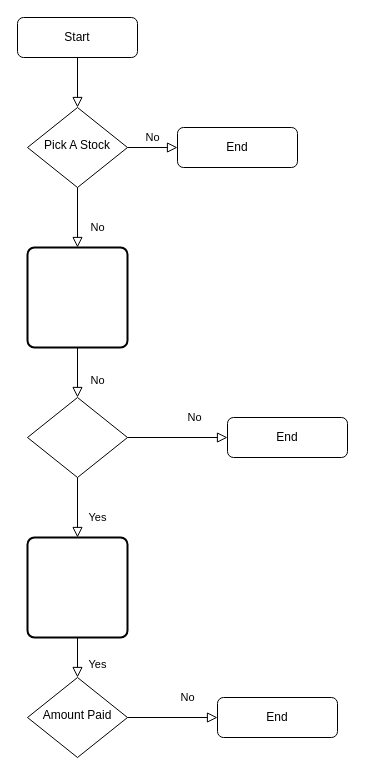
Some shapes in this 365 by 775 pixel diagram are drawn without their labels. The centre of each missing label's shape, as x and y in pixels:
Apply for CI: point (77, 297)
CI Approved: point (77, 437)
Pay Required Amount: point (77, 587)
